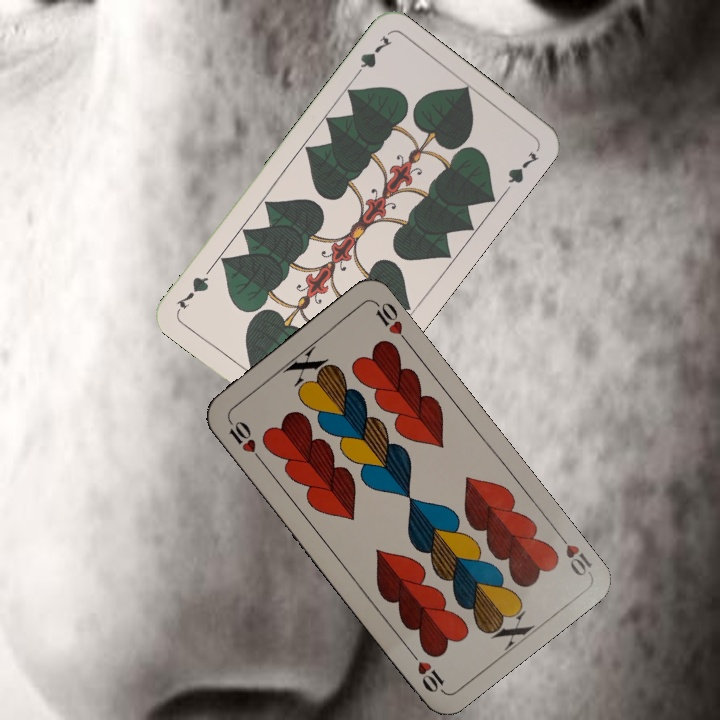G7: (349, 31, 395, 82)
H10: (551, 526, 595, 579), (224, 415, 266, 465)
